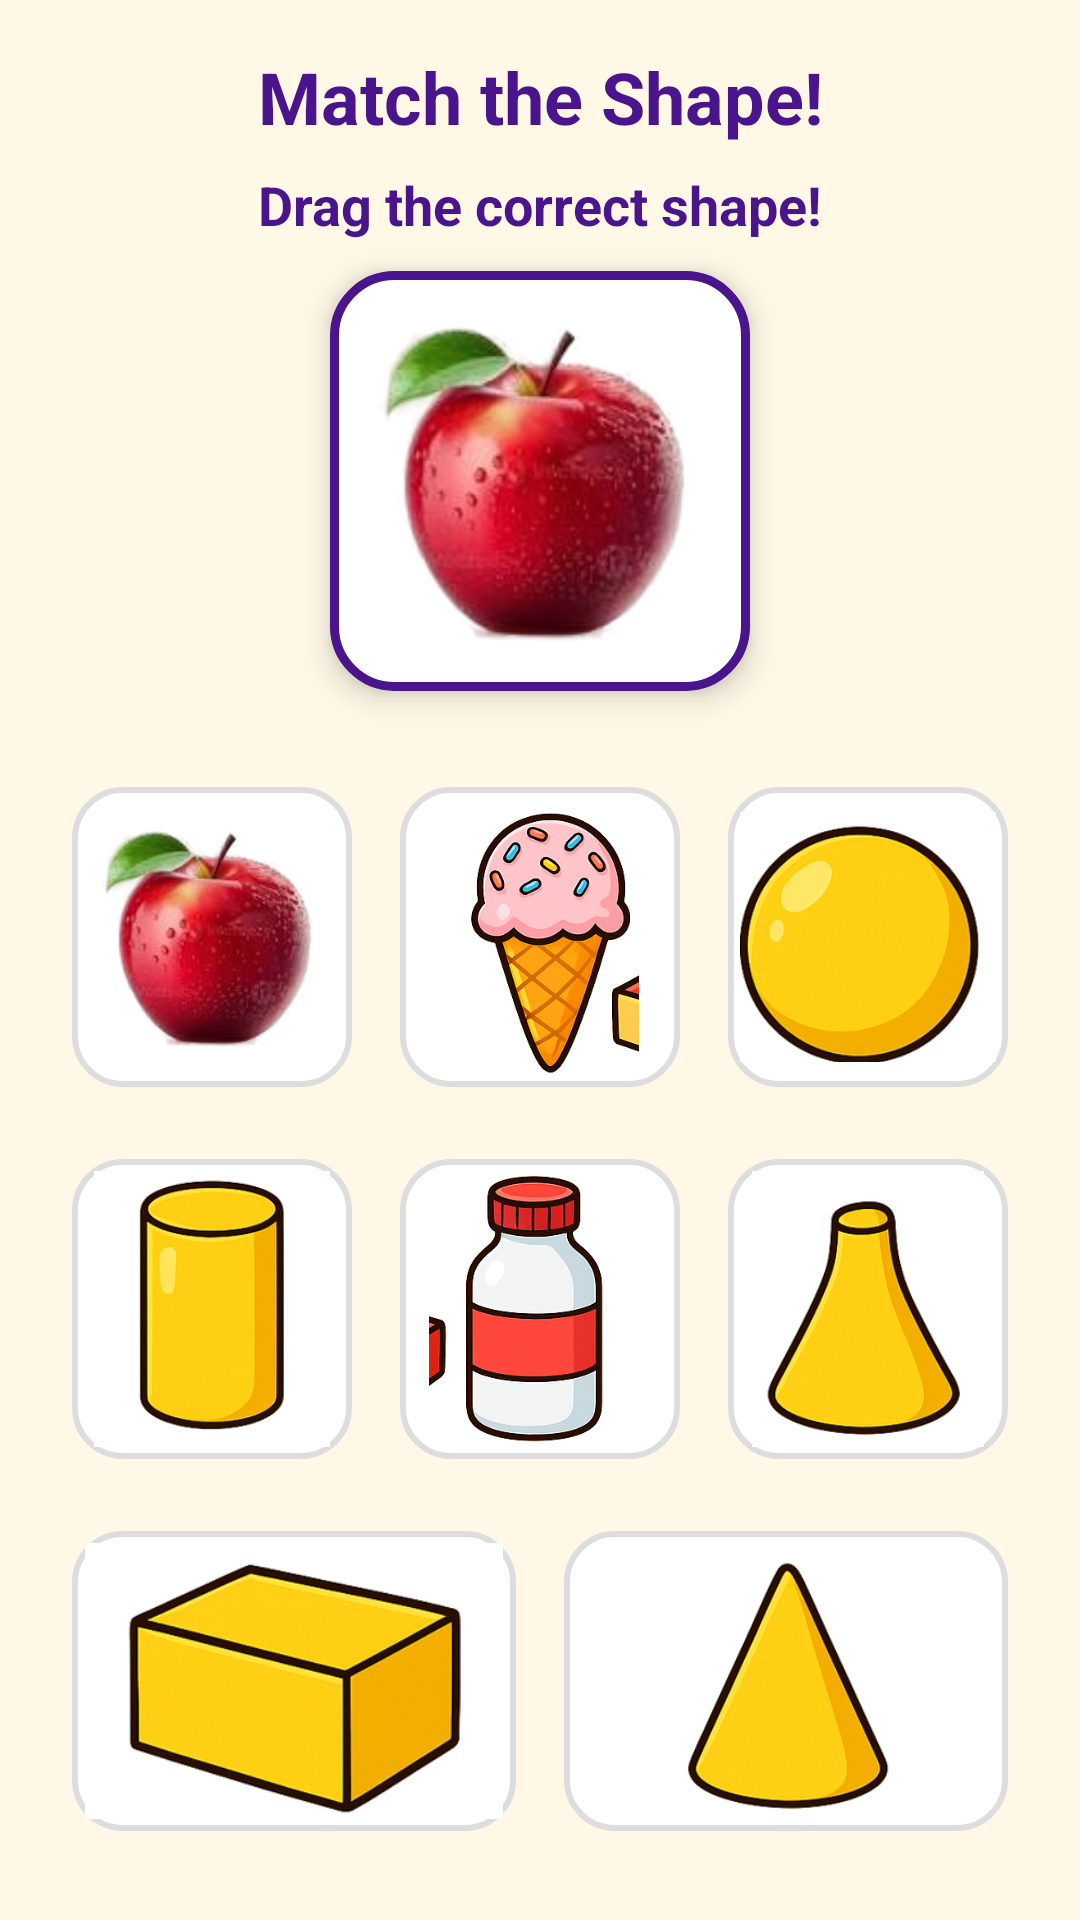

Icon bounding boxes for this 1080px×1920px phone screenshot, format (x1, y1, x2, y2):
bottel: (400, 1159, 680, 1459)
circle: (728, 787, 1008, 1087)
icecreame: (400, 787, 680, 1087)
